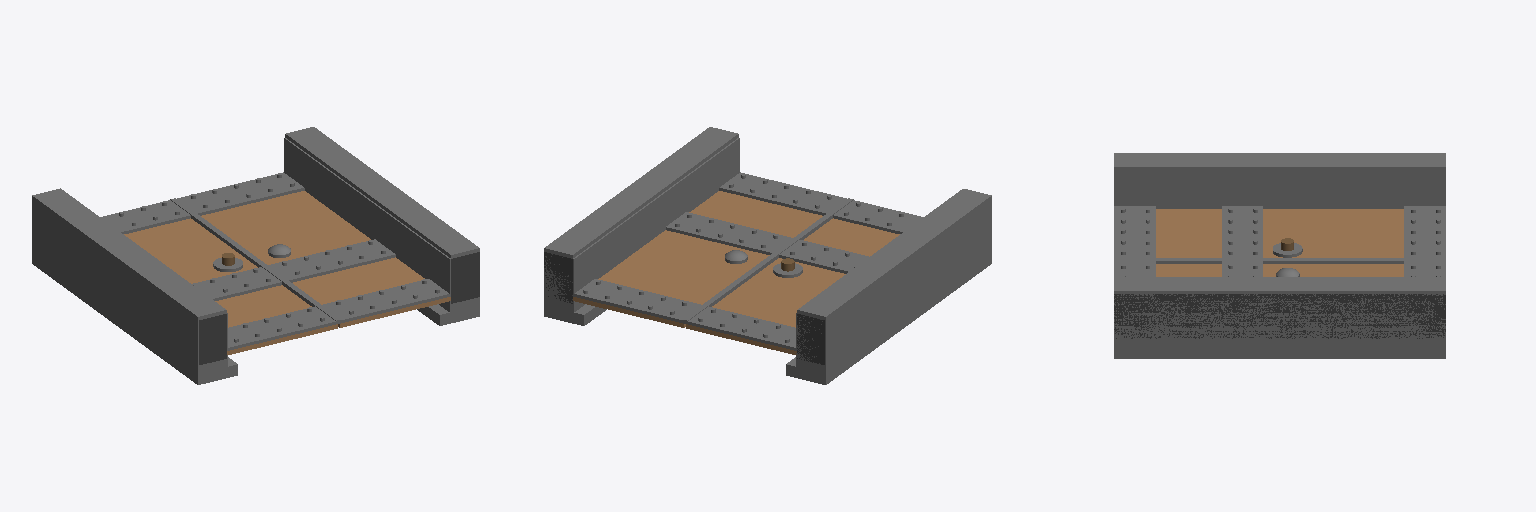
Rendered from double_door_test3.obj.
3 renders of one model, left to right at view 1: azimuth 30°, elevation 25°; view 2: azimuth 150°, elevation 25°; view 3: azimuth 270°, elevation 25°, orthographic.
Visible parts, largest first — view 1: Extrusion:18, Extrusion:1, Extrusion, Generic - 300mm, Extrusion:9, Extrusion:6, Extrusion:4, Extrusion:2, Extrusion:11, Extrusion:13, Extrusion:16; view 2: Extrusion:18, Extrusion:1, Extrusion, Extrusion:4, Extrusion:9, Extrusion:6, Extrusion:11, Generic - 300mm, Extrusion:2, Extrusion:13, Extrusion:16; view 3: Extrusion:18, Extrusion:1, Extrusion, Generic - 300mm, Extrusion:2, Extrusion:11, Extrusion:13, Extrusion:16, Extrusion:9, Extrusion:4, Extrusion:6.
Boxes of the visible parts, x1,y1,x2,y2 form: Extrusion:18: [32, 138, 479, 384]; Extrusion:1: [124, 191, 450, 354]; Extrusion: [32, 127, 479, 320]; Generic - 300mm: [199, 252, 479, 364]; Extrusion:9: [323, 279, 450, 322]; Extrusion:6: [268, 239, 395, 282]; Extrusion:4: [177, 172, 304, 215]; Extrusion:2: [227, 306, 335, 350]; Extrusion:11: [102, 200, 190, 233]; Extrusion:13: [193, 267, 281, 300]; Extrusion:16: [170, 198, 341, 323]; Extrusion:18: [544, 138, 991, 384]; Extrusion:1: [573, 191, 899, 354]; Extrusion: [544, 127, 991, 320]; Extrusion:4: [573, 279, 700, 322]; Extrusion:9: [719, 172, 846, 215]; Extrusion:6: [666, 212, 792, 254]; Extrusion:11: [688, 306, 796, 350]; Generic - 300mm: [544, 252, 824, 364]; Extrusion:2: [833, 200, 921, 233]; Extrusion:13: [779, 240, 868, 273]; Extrusion:16: [682, 198, 853, 323]; Extrusion:18: [1114, 171, 1445, 358]; Extrusion:1: [1156, 209, 1403, 276]; Extrusion: [1114, 153, 1445, 293]; Generic - 300mm: [1114, 294, 1445, 338]; Extrusion:2: [1114, 206, 1155, 257]; Extrusion:11: [1404, 206, 1445, 257]; Extrusion:13: [1222, 206, 1262, 257]; Extrusion:16: [1114, 258, 1445, 263]; Extrusion:9: [1114, 261, 1155, 276]; Extrusion:4: [1404, 261, 1445, 276]; Extrusion:6: [1222, 261, 1262, 276].
Size of the model in its own units: 1.96 by 0.455 by 2.